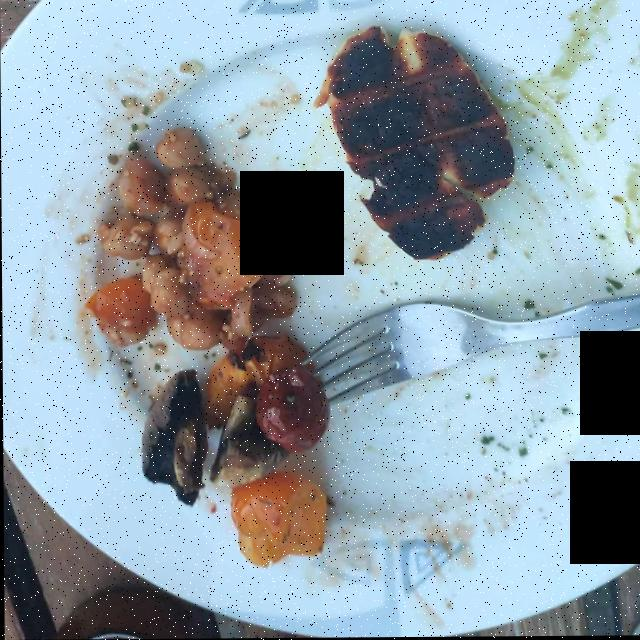chickpeas: (98, 125, 294, 351)
halloumi: (329, 30, 518, 266)
mixed-vegetables: (94, 196, 342, 565)
